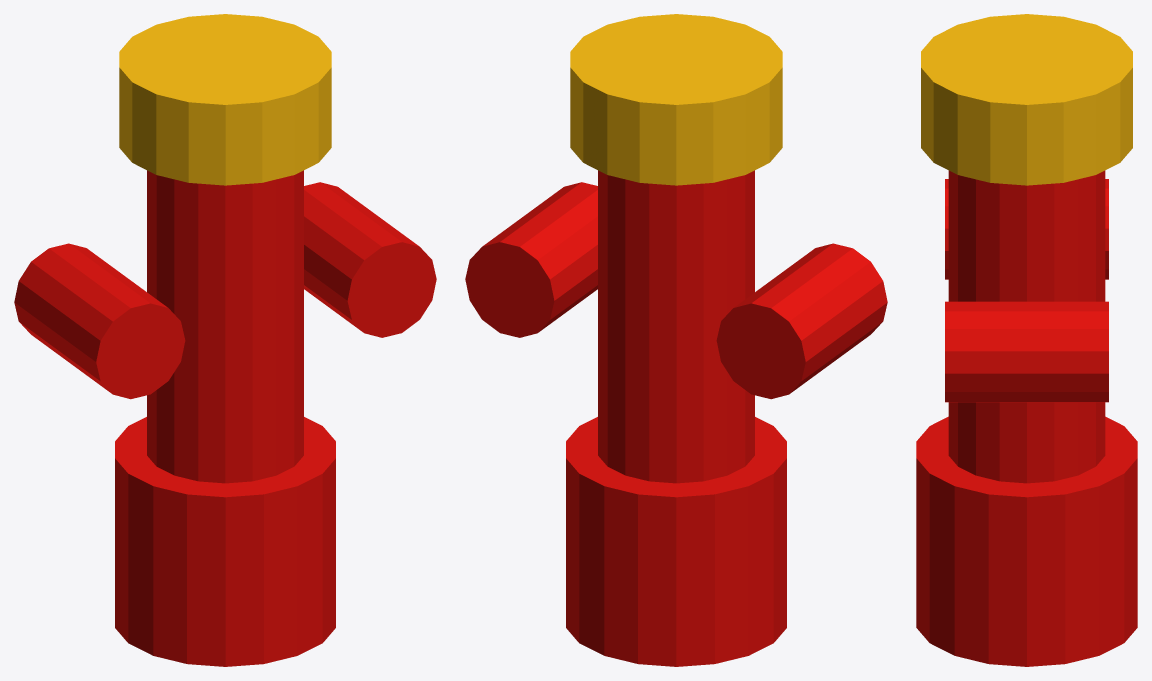
The model's file is fire_hydrant.obj.
3 renders of one model, left to right at view 1: azimuth 30°, elevation 25°; view 2: azimuth 150°, elevation 25°; view 3: azimuth 270°, elevation 25°, orthographic.
Parts seen in each view (by area): view 1: fire_hydrant; view 2: fire_hydrant; view 3: fire_hydrant.
Boxes of the visible parts, x1,y1,x2,y2 form: fire_hydrant: (14,14,436,666); fire_hydrant: (465,14,887,666); fire_hydrant: (916,14,1137,666).
Bounding box in the file's own units: 1.68 × 2.64 × 0.9454.
